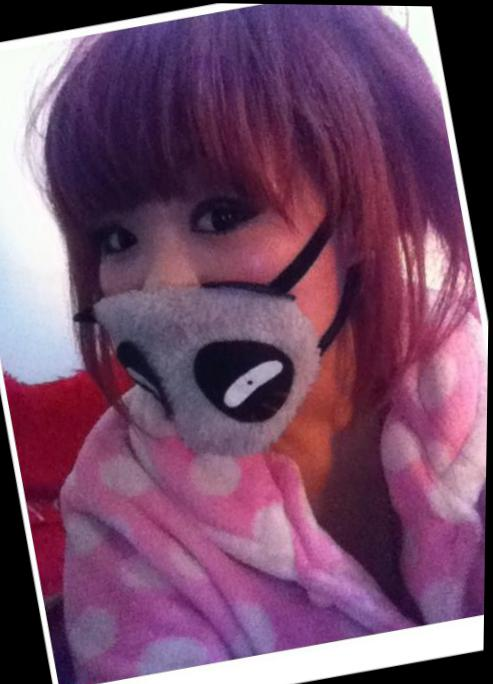WRONG: (60, 136, 382, 475)
